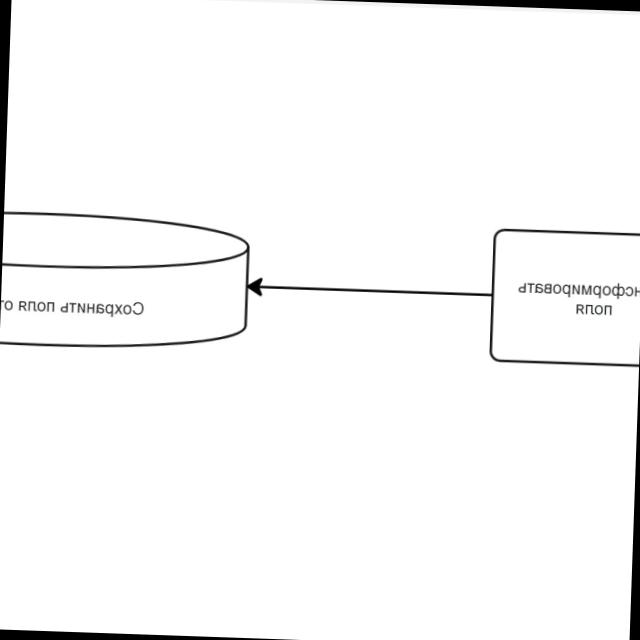arrow: (248, 274, 494, 307)
